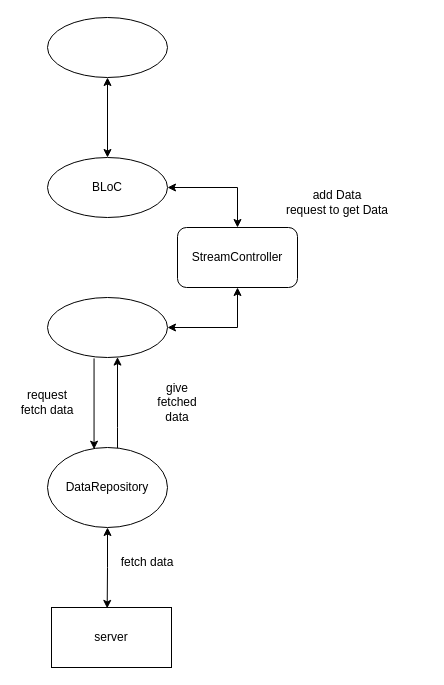
The diagram is 444 pixels wide and 685 high, and some of its shapes have lost their labels. Here are the shapes that lost their labels. From the top down, the centre of each, then its label:
the point at 107,47: View
the point at 107,327: Repository
